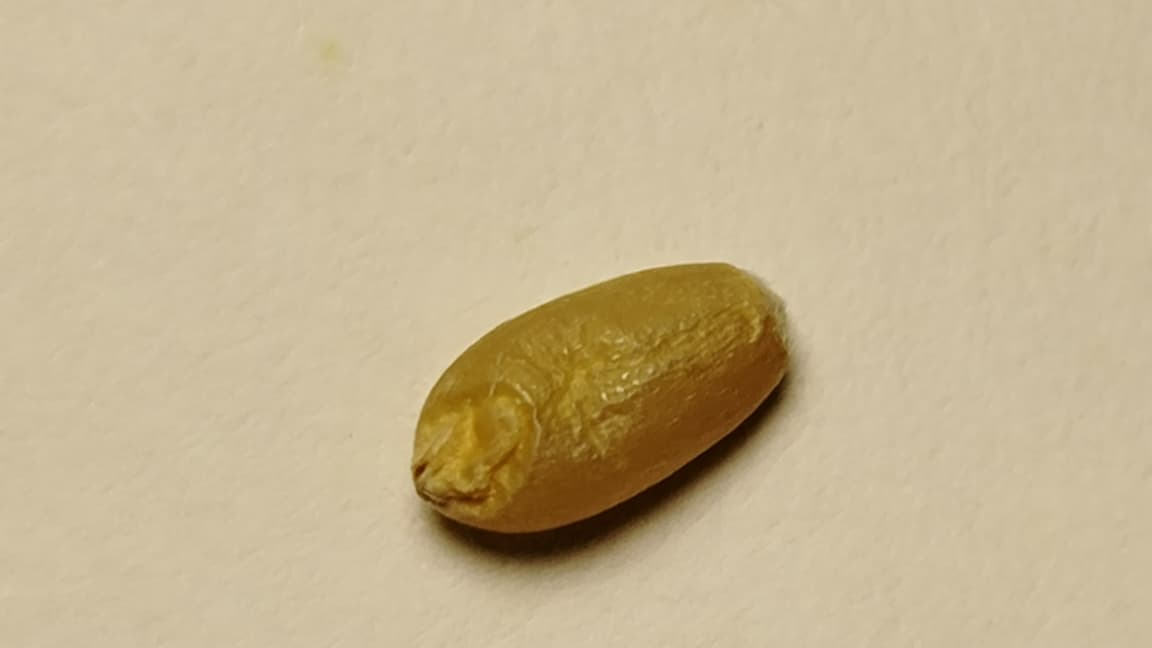healthy: (411, 263, 788, 532)
